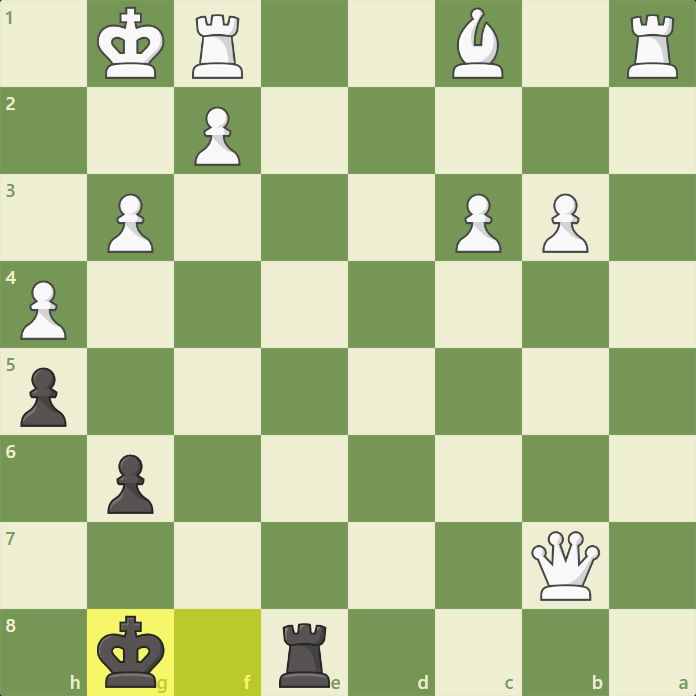B: (447, 5, 506, 81)
K: (95, 5, 167, 81)
P: (18, 277, 69, 343), (104, 189, 155, 255), (191, 102, 242, 168), (452, 189, 503, 255), (539, 189, 590, 255)
Q: (529, 530, 605, 603)
R: (621, 11, 681, 81), (188, 11, 246, 82)
k: (95, 614, 166, 689)
p: (103, 452, 156, 518), (16, 363, 69, 429)
r: (278, 621, 334, 691)
